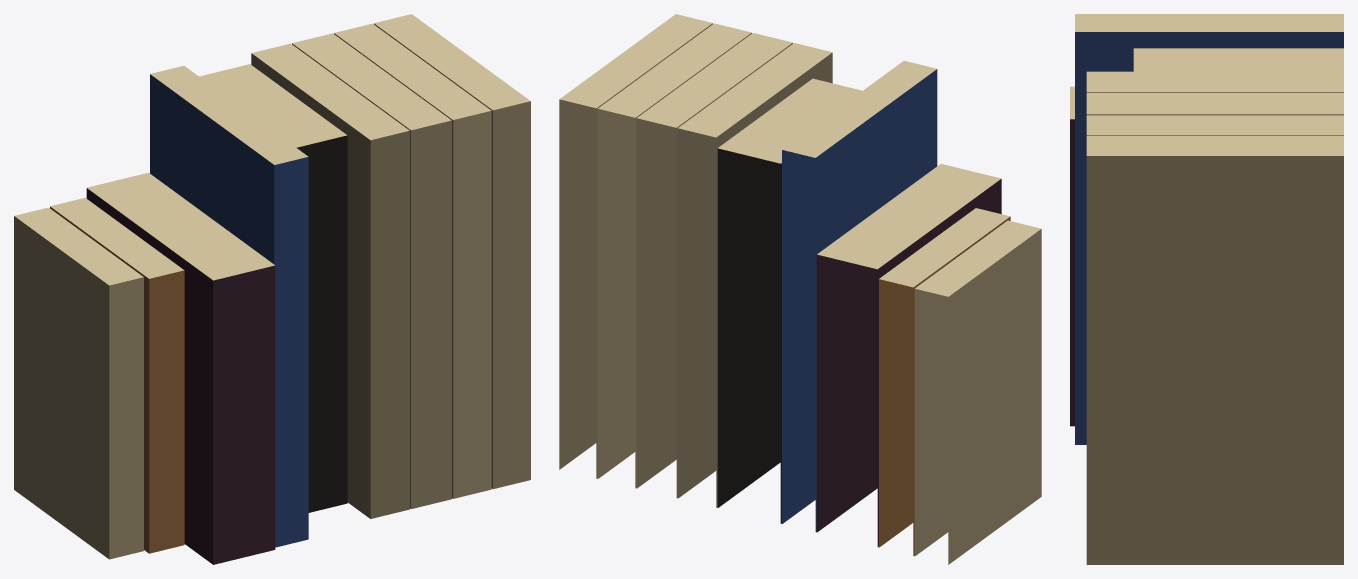
Rendered from bookrow_tall_5_lod.glb.
The picture shows the model from 3 angles, left to right: view 1: azimuth 30°, elevation 25°; view 2: azimuth 150°, elevation 25°; view 3: azimuth 270°, elevation 25°; orthographic projection. The views are drawn at different scales.
Parts seen in each view (by area): view 1: bookrow_tall_5_lod; view 2: bookrow_tall_5_lod; view 3: bookrow_tall_5_lod.
Part boxes in pixels (x1=…): bookrow_tall_5_lod: x1=14, y1=14, x2=530, y2=564; bookrow_tall_5_lod: x1=559, y1=14, x2=1041, y2=564; bookrow_tall_5_lod: x1=1070, y1=14, x2=1343, y2=564.
Size of the model in its own units: 0.465 by 0.4277 by 0.2568.
